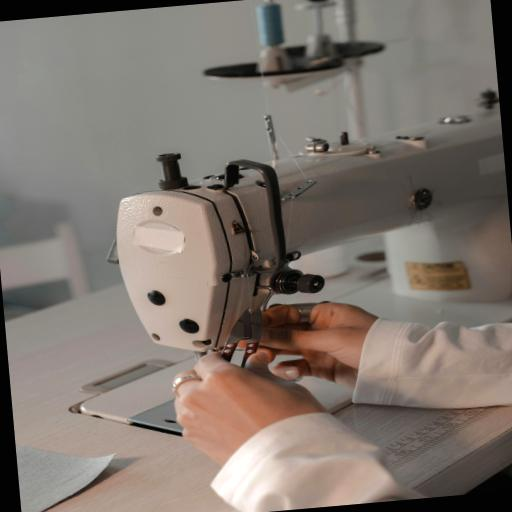Gloves: (158, 301, 388, 464)
